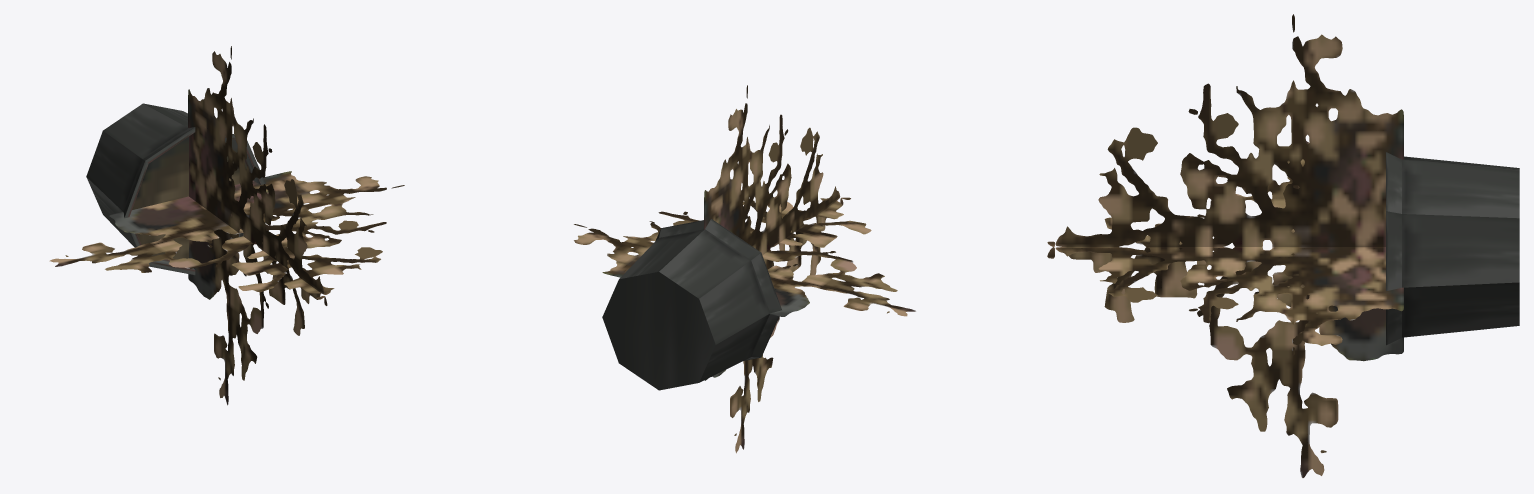
The model's file is pz_native_ficus_28.obj.
3 views of the same model, side by side, from view 1: azimuth 30°, elevation 25°; view 2: azimuth 150°, elevation 25°; view 3: azimuth 270°, elevation 25° (orthographic). The views are drawn at different scales.
Visible parts, largest first — view 1: foliage_crossed_cards, pot_shell, soil; view 2: foliage_crossed_cards, pot_shell, pot_bottom; view 3: foliage_crossed_cards, pot_shell.
Part boxes in pixels (x1=…): foliage_crossed_cards: x1=49, y1=46, x2=404, y2=405; pot_shell: x1=86, y1=103, x2=265, y2=275; soil: x1=132, y1=136, x2=246, y2=259; foliage_crossed_cards: x1=574, y1=85, x2=915, y2=453; pot_shell: x1=619, y1=219, x2=781, y2=382; pot_bottom: x1=602, y1=272, x2=715, y2=390; foliage_crossed_cards: x1=1047, y1=14, x2=1403, y2=477; pot_shell: x1=1386, y1=152, x2=1519, y2=345.
Bounding box in the file's own units: 1.16 × 1.16 × 1.06.
1 material, 1 textured.
